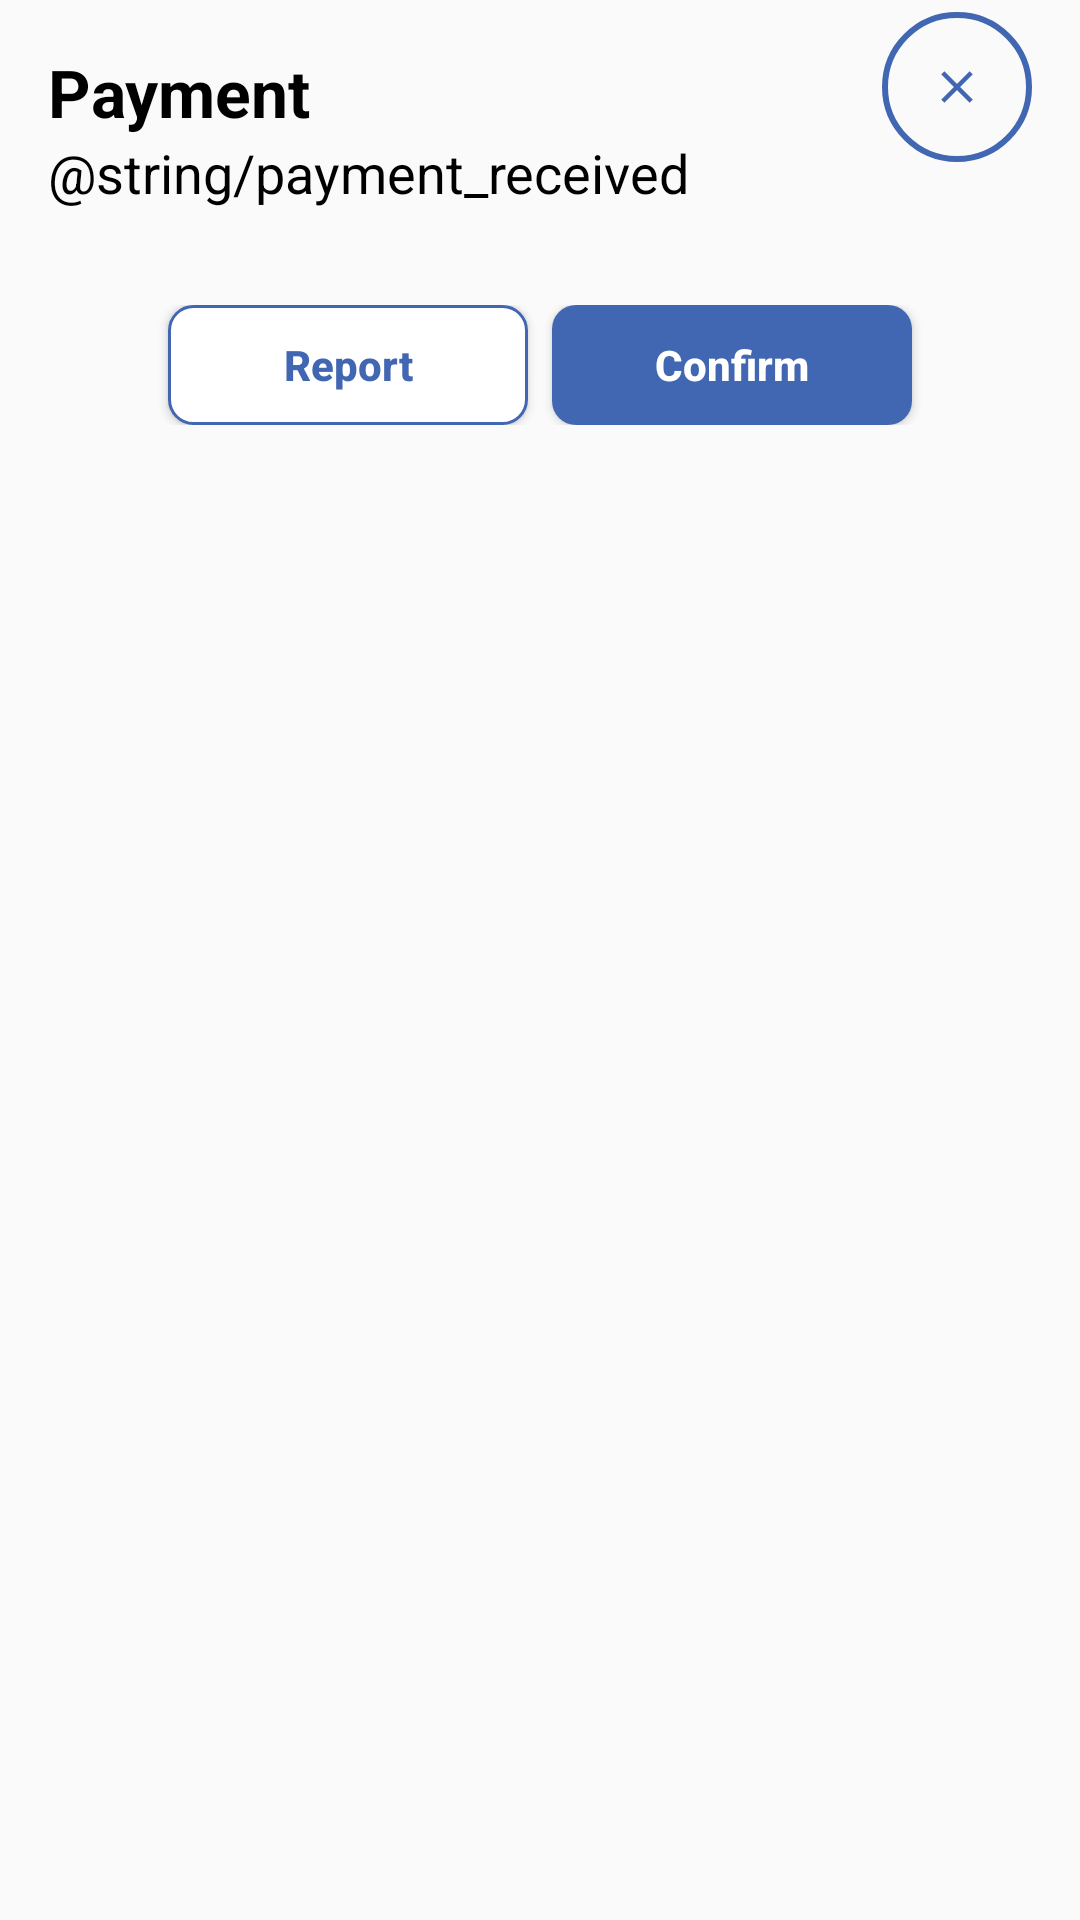

Icons on this 1080px x 1920px Android screen, each with the point to tap as (x,y):
close: (957,87)
